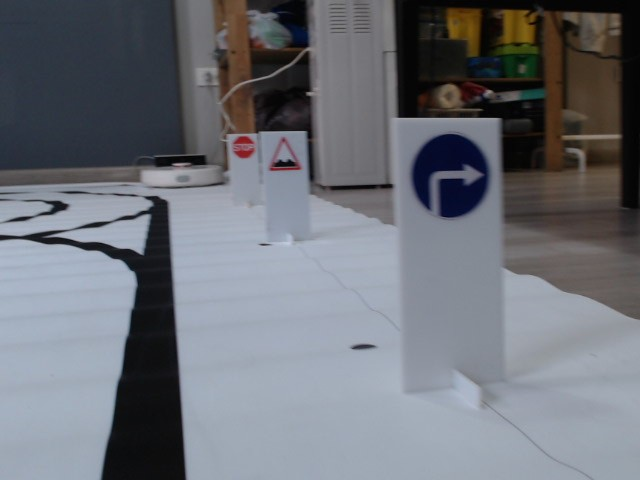Nerov: (269, 136, 302, 170)
Right: (411, 131, 492, 220)
Stop: (231, 135, 255, 157)
